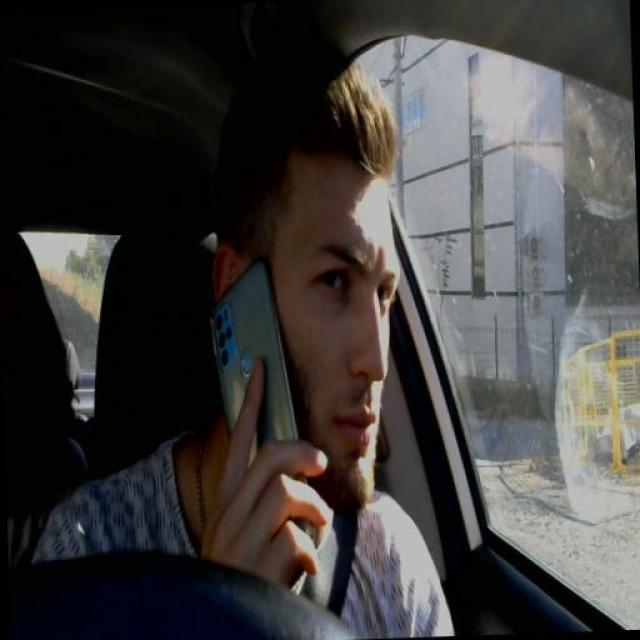phone: (208, 258, 298, 474)
